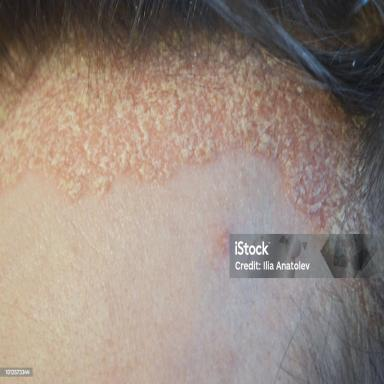Psoriasis: (0, 31, 376, 232)
